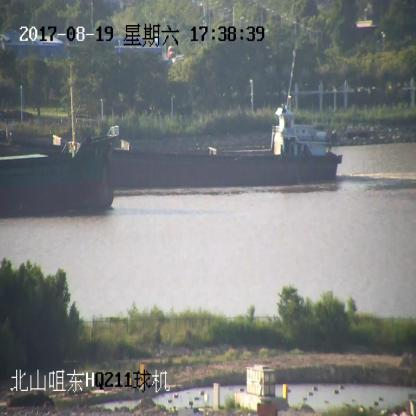Bulk Carrier: (80, 104, 339, 184), (0, 126, 117, 213)
